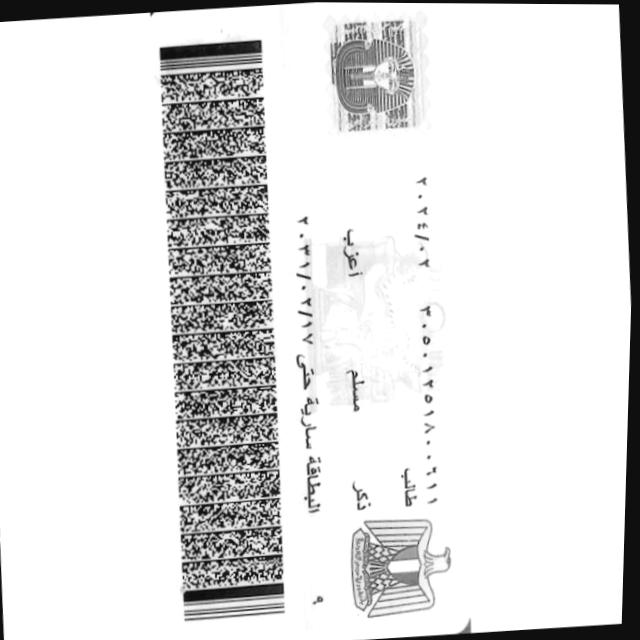id_card: (143, 1, 488, 640)
